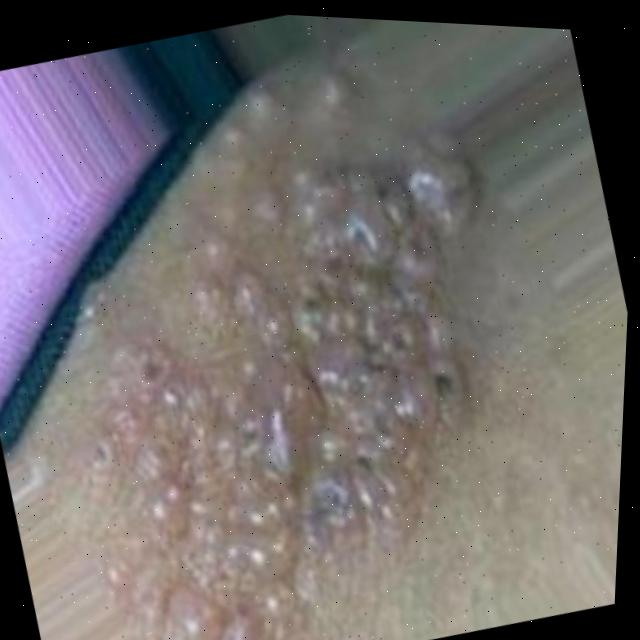Shingles: (38, 98, 579, 640)
